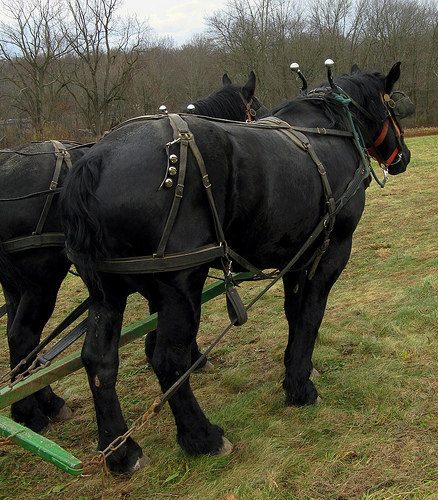horse: (49, 56, 417, 483), (1, 67, 268, 433)
